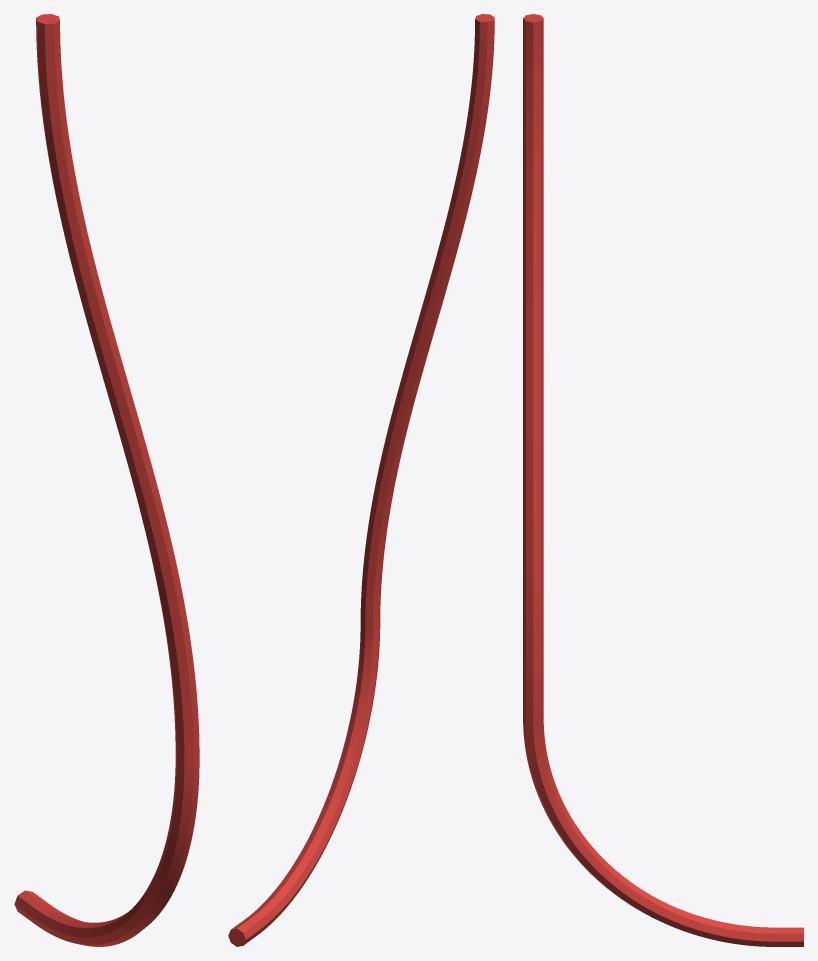
File: J3_cavity_1_red_Alpha3057_16AWG.glb
3 renders of one model, left to right at view 1: azimuth 30°, elevation 25°; view 2: azimuth 150°, elevation 25°; view 3: azimuth 270°, elevation 25°, orthographic. The views are drawn at different scales.
Parts seen in each view (by area): view 1: J3 cavity 1 red Alpha3057_16AWG; view 2: J3 cavity 1 red Alpha3057_16AWG; view 3: J3 cavity 1 red Alpha3057_16AWG.
Boxes of the visible parts, box(x1,y1,x2,y2) form: J3 cavity 1 red Alpha3057_16AWG: box(14, 14, 199, 946); J3 cavity 1 red Alpha3057_16AWG: box(228, 14, 494, 946); J3 cavity 1 red Alpha3057_16AWG: box(523, 14, 803, 946).
Bounding box in the file's own units: 17.91 × 111 × 32.49.
